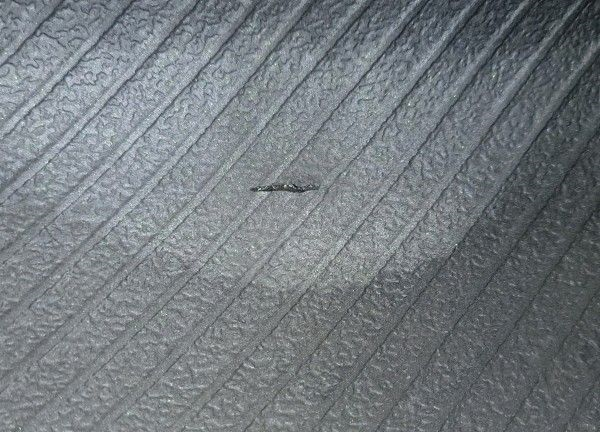cut: (245, 172, 333, 201)
